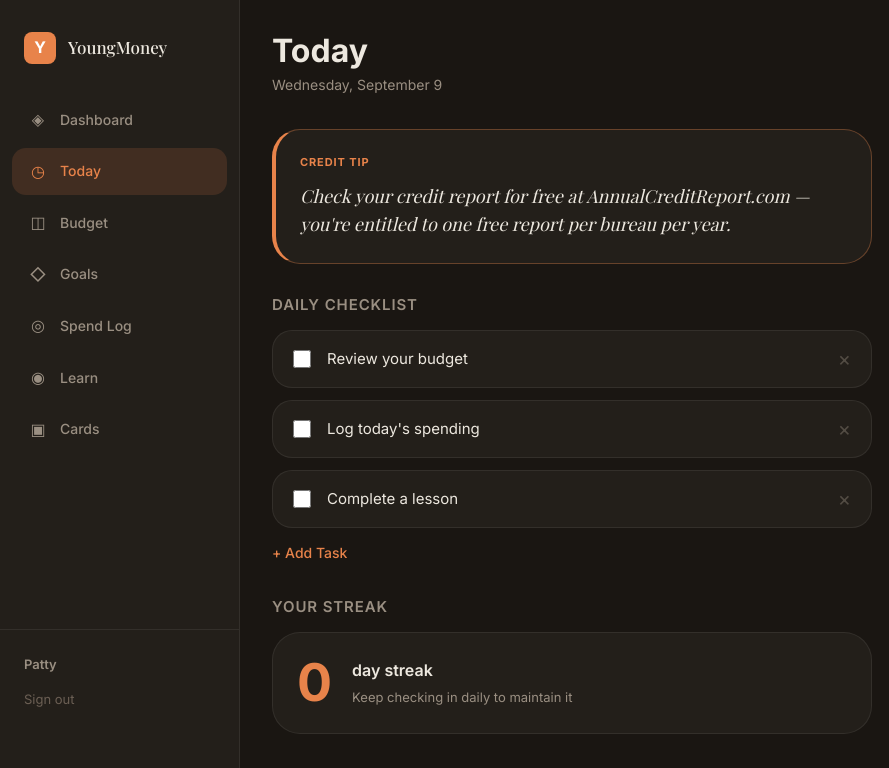
YoungMoney Main App Pages › allows user to delete a task
Click the button with class "today__delete-btn" in the row of "Review your budget" at (845, 359), box [834, 349, 855, 369]
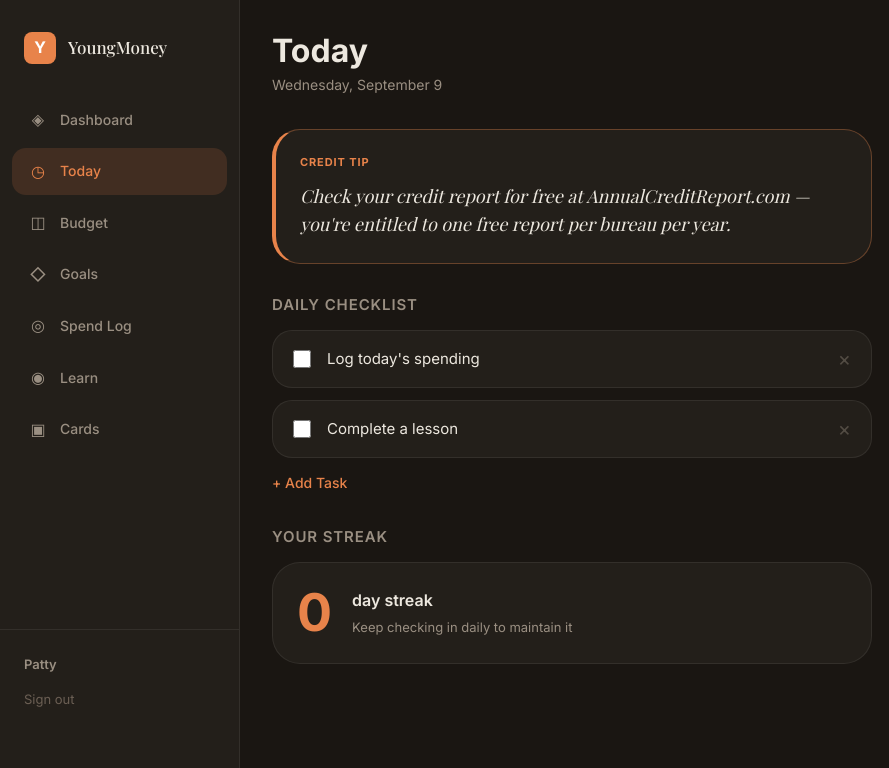
expect the text "Review your budget" is gone: met
